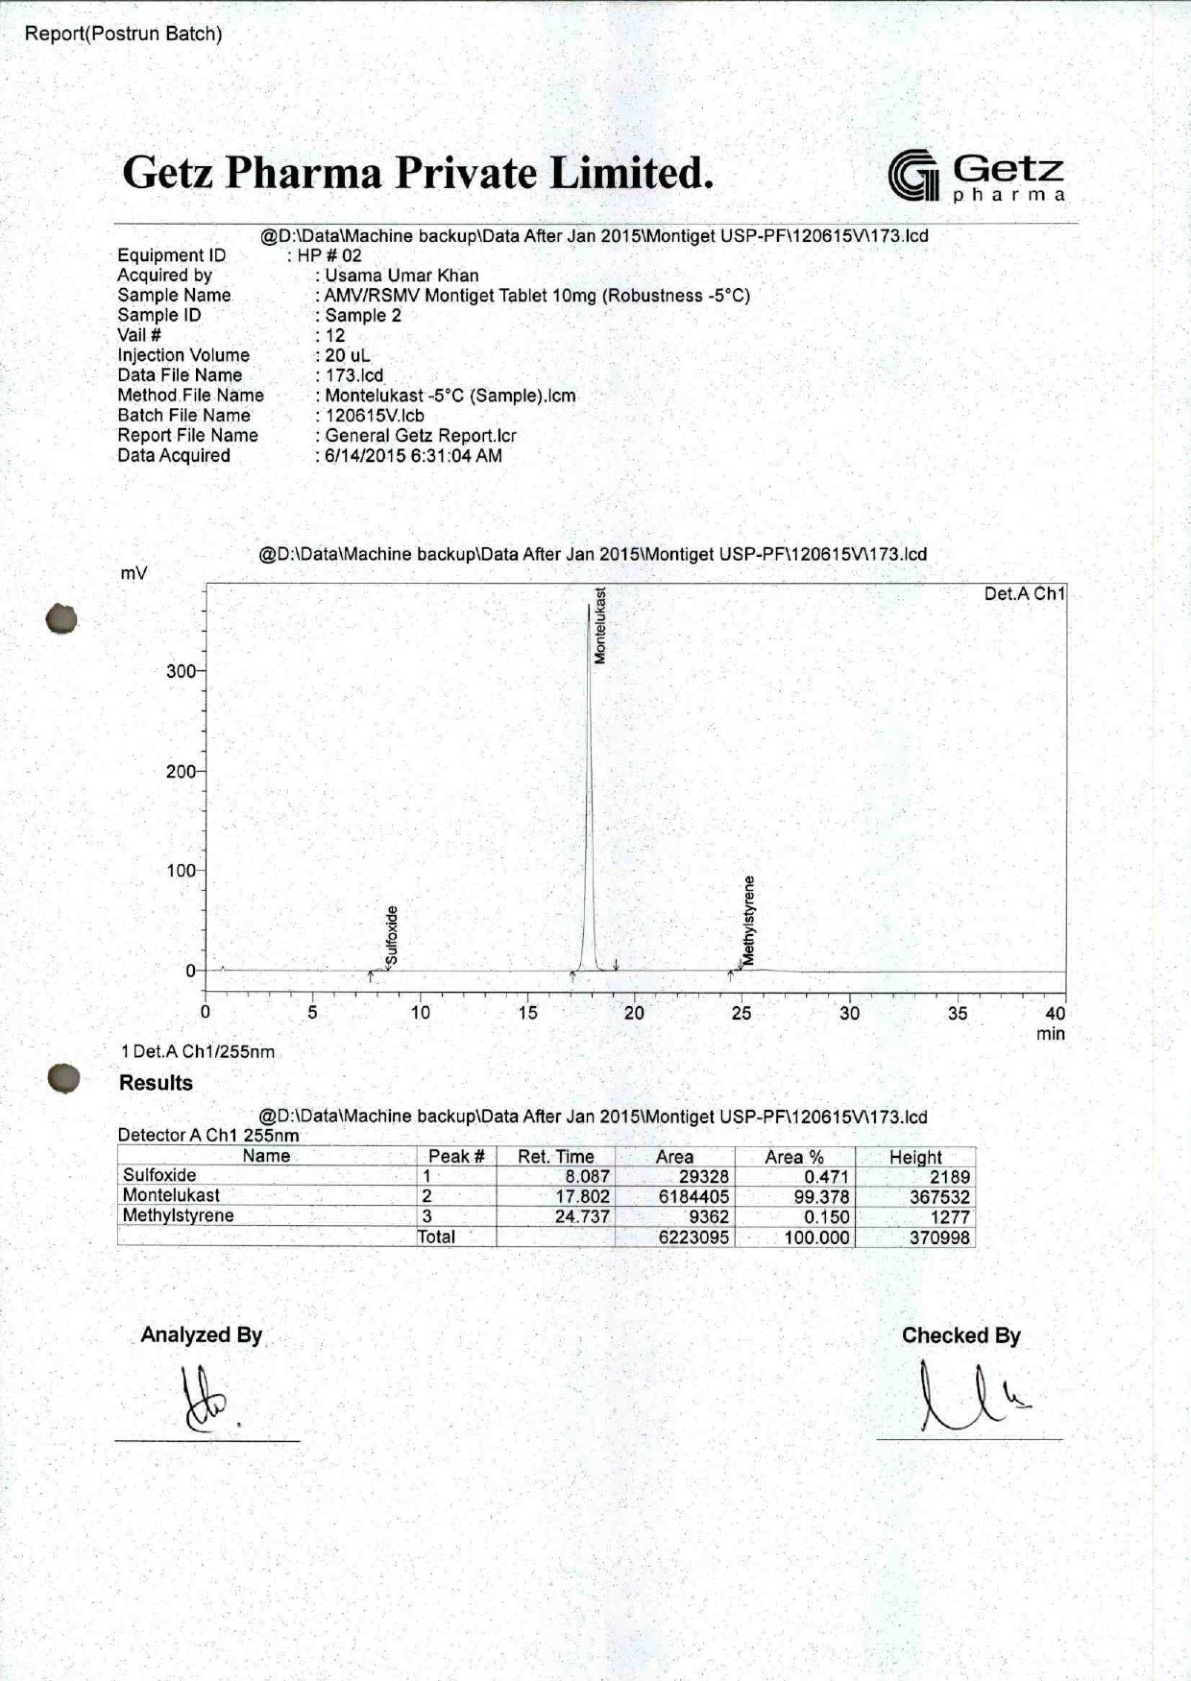full_lined: (116, 1142, 978, 1250)
nolines: (115, 246, 754, 468)
